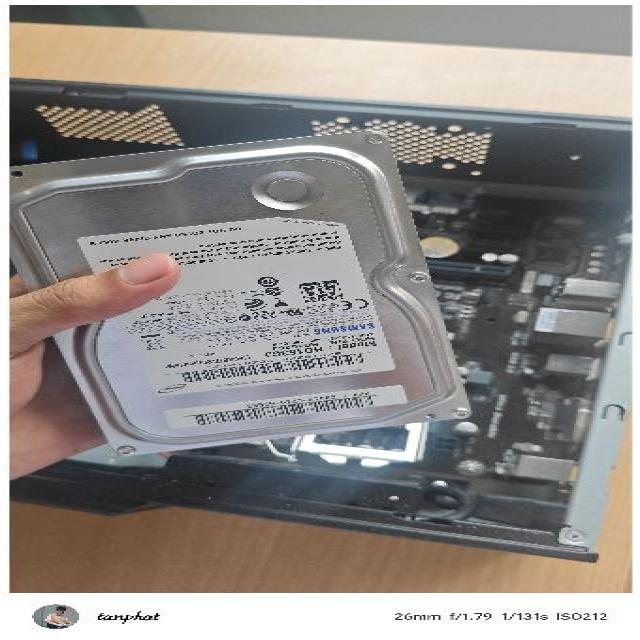DISK: (10, 126, 478, 458)
